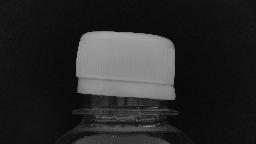Loose Cap: (64, 74, 186, 118)
